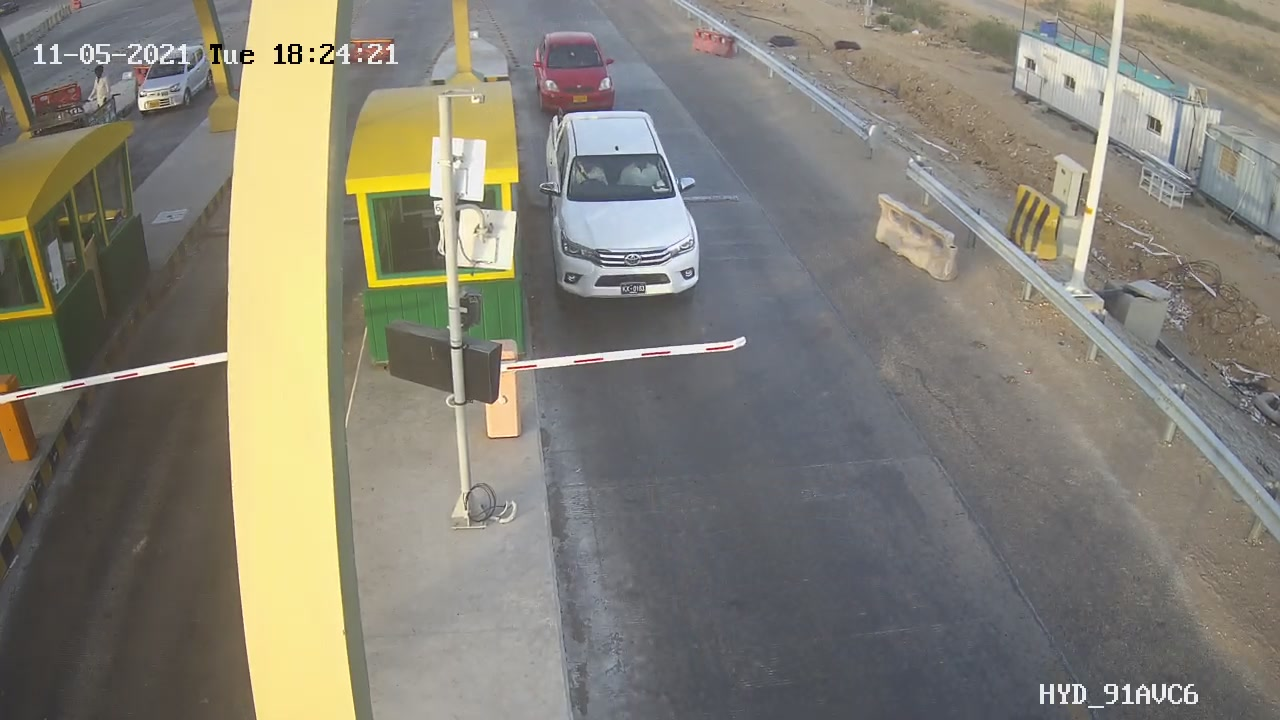F1: (531, 107, 703, 309)
